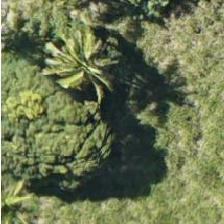coconut_tree: (42, 17, 132, 107)
